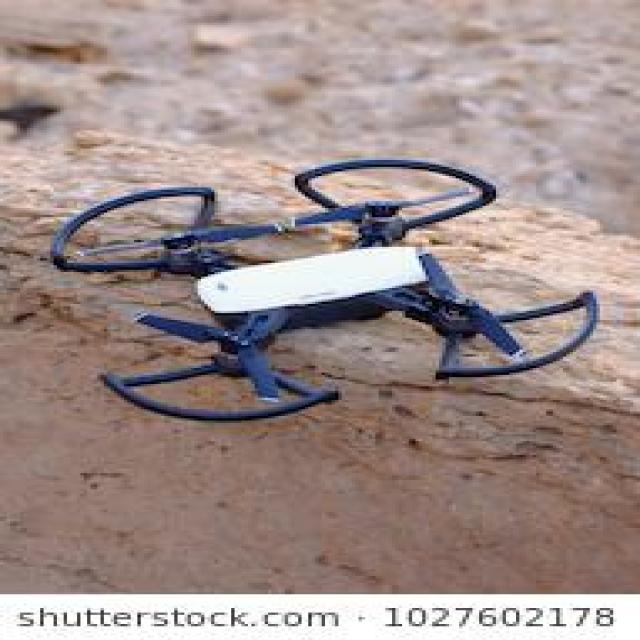drone: (0, 72, 640, 529)
